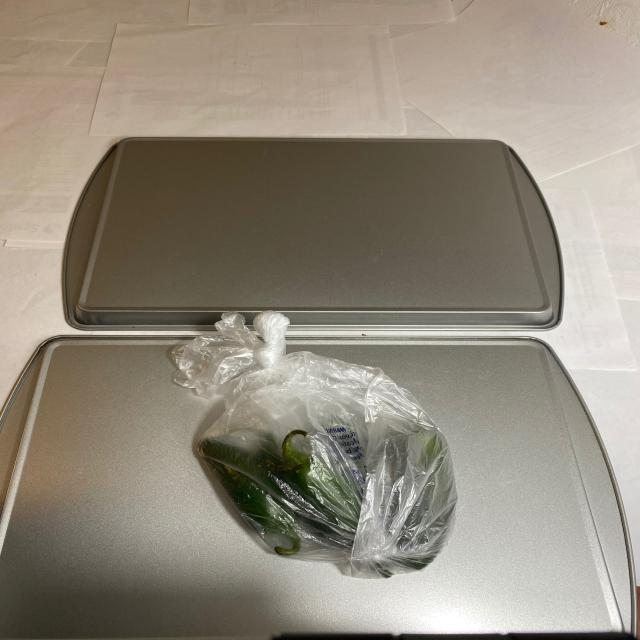chilli: (188, 397, 464, 574)
